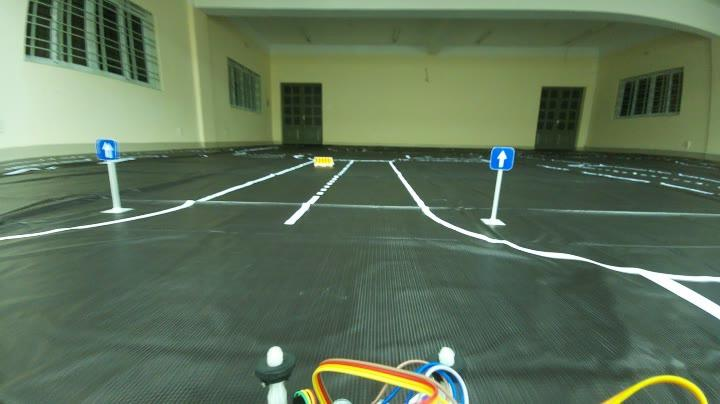onewayroad: (488, 142, 514, 172), (92, 138, 116, 160)
roadblock: (312, 155, 336, 169)
